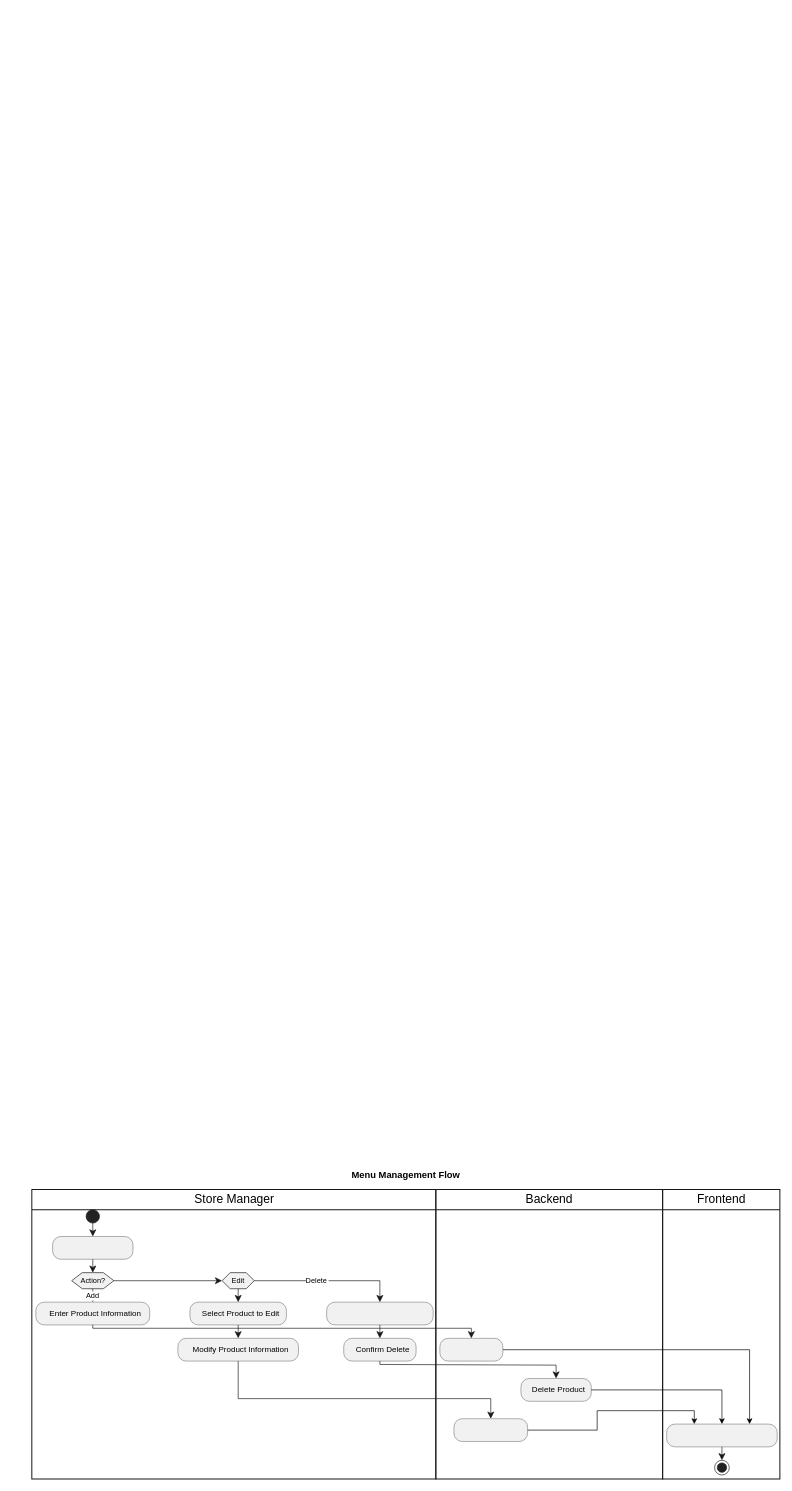
Image size: 792x1491. Some labels were removed from this diagram. Each missing label, with the centre of its shape:
"Display Success Message" goes at (x=721, y=1435).
"Save Product" goes at (x=471, y=1349).
"Select Product to Delete" goes at (x=379, y=1313).
"Update Product" goes at (x=490, y=1429).
"View Product List" goes at (x=92, y=1247).
